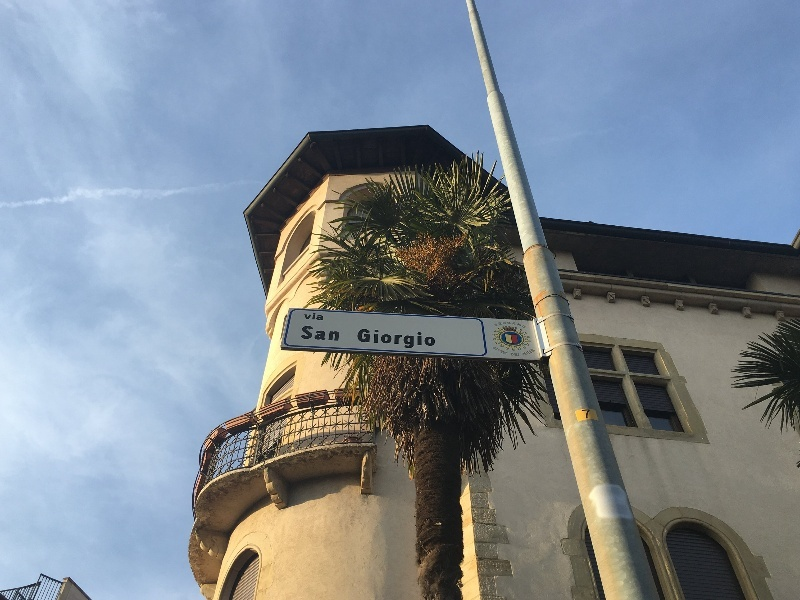text: (369, 328, 384, 351), (385, 328, 400, 351), (401, 328, 416, 351), (417, 328, 432, 351), (305, 326, 320, 341), (321, 326, 336, 341), (359, 328, 368, 351), (305, 313, 320, 321), (497, 322, 512, 329), (581, 409, 592, 418), (513, 322, 526, 329), (497, 346, 507, 355), (522, 348, 528, 357), (529, 348, 535, 357), (433, 328, 435, 351), (337, 326, 340, 341), (321, 313, 324, 321), (493, 322, 496, 329), (513, 353, 520, 356), (303, 326, 304, 341), (495, 346, 496, 355), (511, 353, 512, 356)
